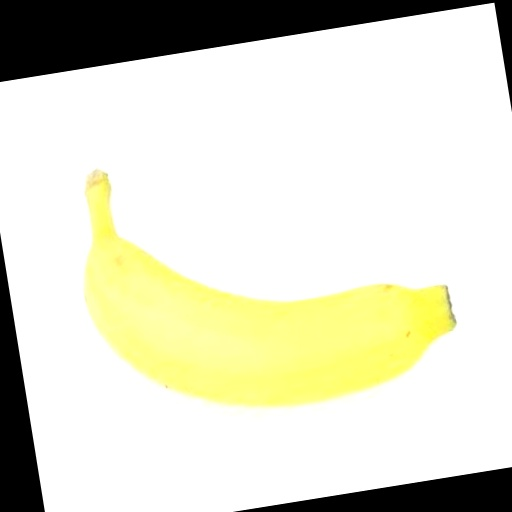fruit: (83, 170, 454, 405)
